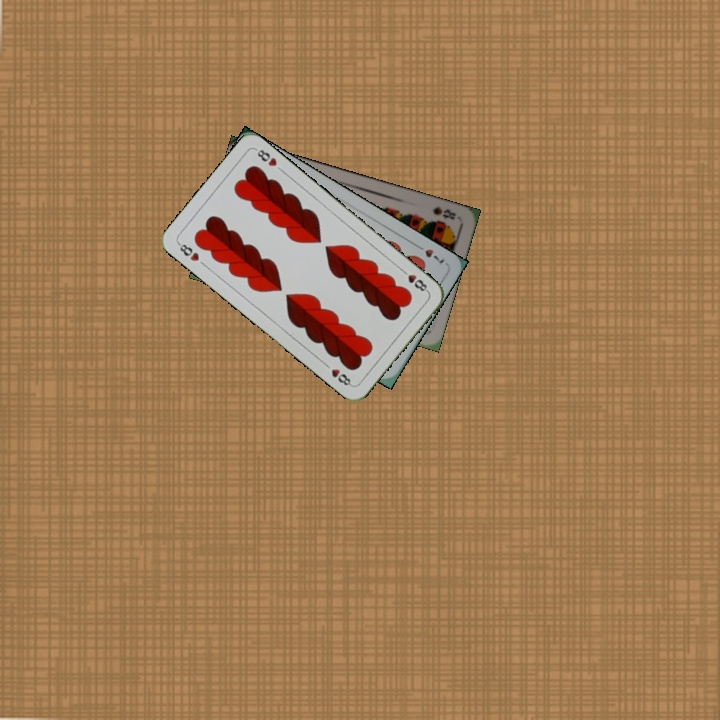H7: (411, 240, 447, 266)
H8: (397, 265, 431, 295), (174, 238, 202, 264)
S8: (428, 202, 458, 222)
